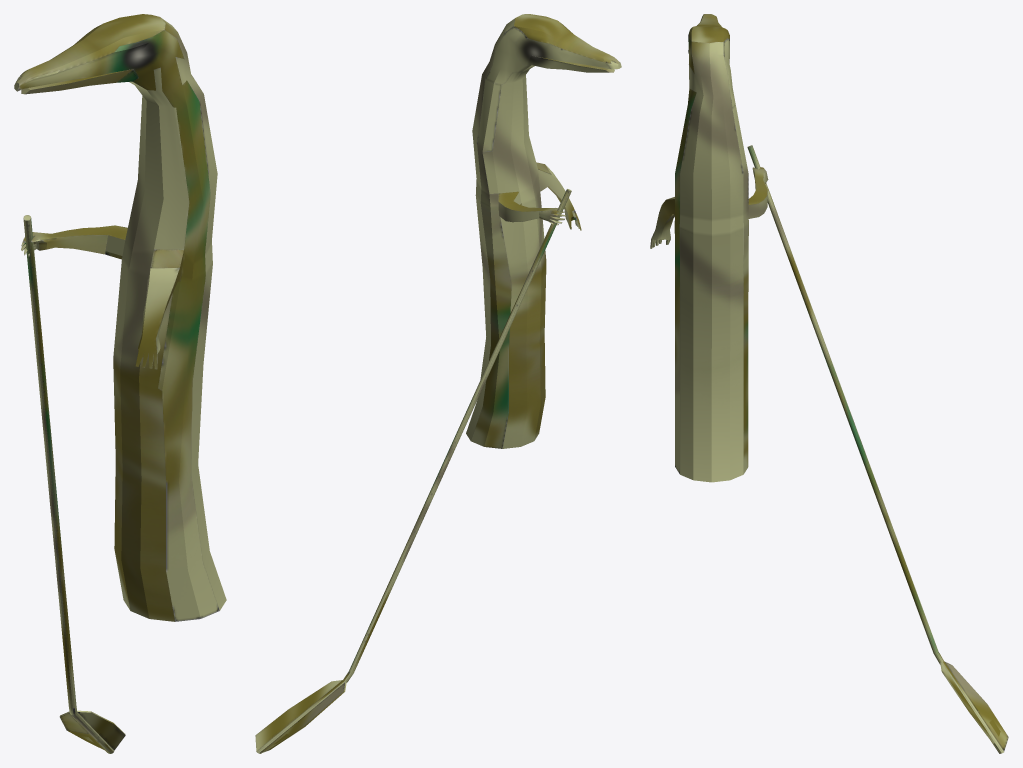
The model's file is remero1.obj.
3 renders of one model, left to right at view 1: azimuth 30°, elevation 25°; view 2: azimuth 150°, elevation 25°; view 3: azimuth 270°, elevation 25°, orthographic. The views are drawn at different scales.
Visible parts, largest first — view 1: pCylinder3; view 2: pCylinder3; view 3: pCylinder3.
Part boxes in pixels (x1=…): pCylinder3: x1=14, y1=14, x2=226, y2=753; pCylinder3: x1=255, y1=14, x2=621, y2=753; pCylinder3: x1=650, y1=14, x2=1008, y2=753.
Size of the model in its own units: 1.97 by 5.59 by 2.76.
Materials: 1 (1 with a texture image).
